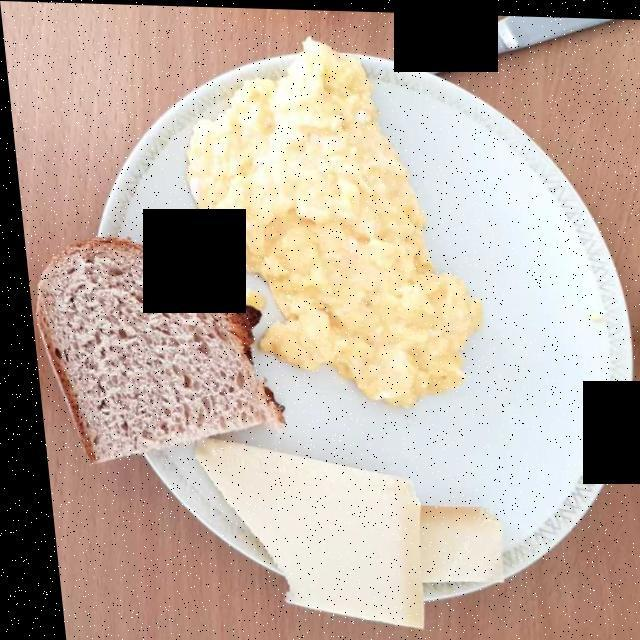bread: (36, 240, 259, 455)
cheese: (193, 445, 491, 615)
eggs: (188, 48, 470, 401)
